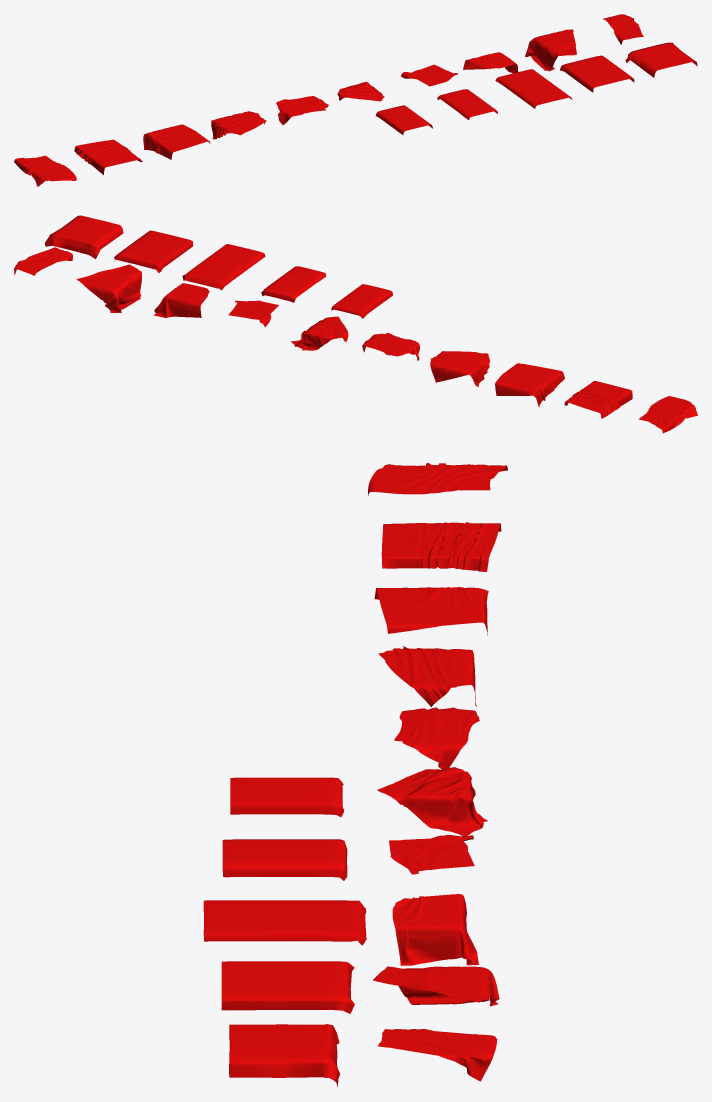
Rendered from bedsheets_grp.fbx.
3 views of the same model, one above another, from view 1: azimuth 30°, elevation 25°; view 2: azimuth 150°, elevation 25°; view 3: azimuth 270°, elevation 25° (orthographic). The views are drawn at different scales.
Visible parts, largest first — view 1: bedsheet_made_3, bedsheet_made_2, bedsheet_unmade_2, bedsheet_unmade_8, bedsheet_made_1, bedsheet_unmade_9, bedsheet_unmade_10, bedsheet_unmade_7, bedsheet_made_4, bedsheet_made_5, bedsheet_unmade_6, bedsheet_unmade_3 (+3 smaller); view 2: bedsheet_made_3, bedsheet_made_1, bedsheet_unmade_2, bedsheet_made_2, bedsheet_unmade_8, bedsheet_unmade_7, bedsheet_unmade_9, bedsheet_unmade_3, bedsheet_made_4, bedsheet_unmade_10, bedsheet_made_5, bedsheet_unmade_5 (+3 smaller); view 3: bedsheet_made_3, bedsheet_made_2, bedsheet_made_1, bedsheet_unmade_9, bedsheet_unmade_3, bedsheet_made_4, bedsheet_unmade_5, bedsheet_unmade_8, bedsheet_made_5, bedsheet_unmade_2, bedsheet_unmade_7, bedsheet_unmade_10 (+3 smaller).
Boxes of the visible parts, box(x1,y1,x2,y2) form: bedsheet_made_3: box(495, 69, 572, 108); bedsheet_made_2: box(560, 55, 634, 92); bedsheet_unmade_2: box(525, 29, 576, 71); bedsheet_unmade_8: box(143, 124, 210, 159); bedsheet_made_1: box(625, 42, 697, 77); bedsheet_unmade_9: box(74, 139, 142, 174); bedsheet_unmade_10: box(14, 155, 76, 186); bedsheet_unmade_7: box(211, 111, 266, 139); bedsheet_made_4: box(437, 89, 497, 119); bedsheet_made_5: box(375, 105, 432, 134); bedsheet_unmade_6: box(276, 96, 328, 124); bedsheet_unmade_3: box(463, 52, 518, 73); bedsheet_made_3: box(182, 244, 265, 290); bedsheet_made_1: box(45, 215, 123, 259); bedsheet_unmade_2: box(76, 264, 141, 313); bedsheet_made_2: box(114, 230, 193, 273); bedsheet_unmade_8: box(495, 363, 564, 407); bedsheet_unmade_7: box(430, 351, 490, 386); bedsheet_unmade_9: box(564, 381, 632, 418); bedsheet_unmade_3: box(154, 283, 209, 317); bedsheet_made_4: box(261, 266, 325, 302); bedsheet_unmade_10: box(639, 396, 697, 433); bedsheet_made_5: box(331, 284, 392, 318); bedsheet_unmade_5: box(291, 316, 348, 350); bedsheet_made_3: box(203, 900, 366, 945); bedsheet_made_2: box(221, 961, 354, 1013); bedsheet_made_1: box(229, 1024, 339, 1086); bedsheet_unmade_9: box(381, 522, 501, 571); bedsheet_unmade_3: box(392, 894, 478, 965); bedsheet_made_4: box(222, 839, 347, 880); bedsheet_unmade_5: box(377, 767, 487, 836); bedsheet_unmade_8: box(374, 587, 488, 635); bedsheet_made_5: box(230, 777, 343, 816); bedsheet_unmade_2: box(373, 966, 499, 1006); bedsheet_unmade_7: box(378, 646, 476, 706); bedsheet_unmade_10: box(368, 463, 507, 495).
Size of the model in its own units: 2896 by 87.05 by 614.
